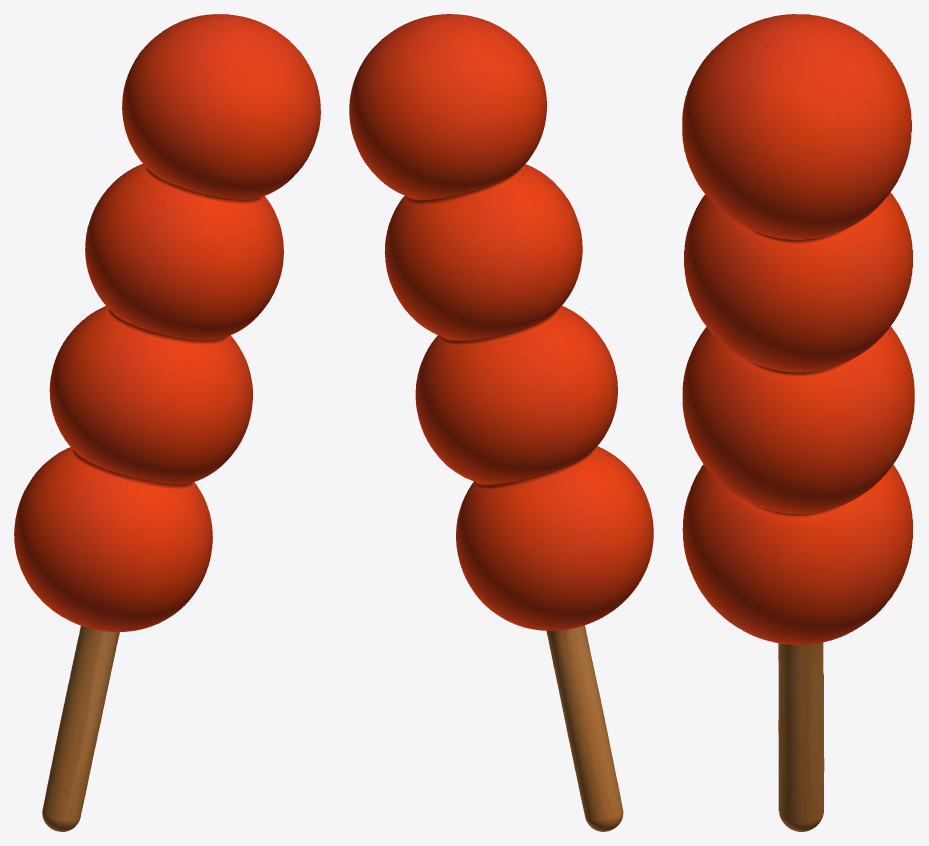
Rendered from candied-haws.glb.
3 views of the same model, side by side, from view 1: azimuth 30°, elevation 25°; view 2: azimuth 150°, elevation 25°; view 3: azimuth 270°, elevation 25° (orthographic). The views are drawn at different scales.
Visible parts, largest first — view 1: texture_pbr_v128; view 2: texture_pbr_v128; view 3: texture_pbr_v128.
Boxes of the visible parts, x1,y1,x2,y2 form: texture_pbr_v128: (14,14,320,831); texture_pbr_v128: (349,14,653,831); texture_pbr_v128: (682,14,914,831).
Bounding box in the file's own units: 0.2277 × 0.5983 × 0.1415.
Materials: 1 (1 with a texture image).
